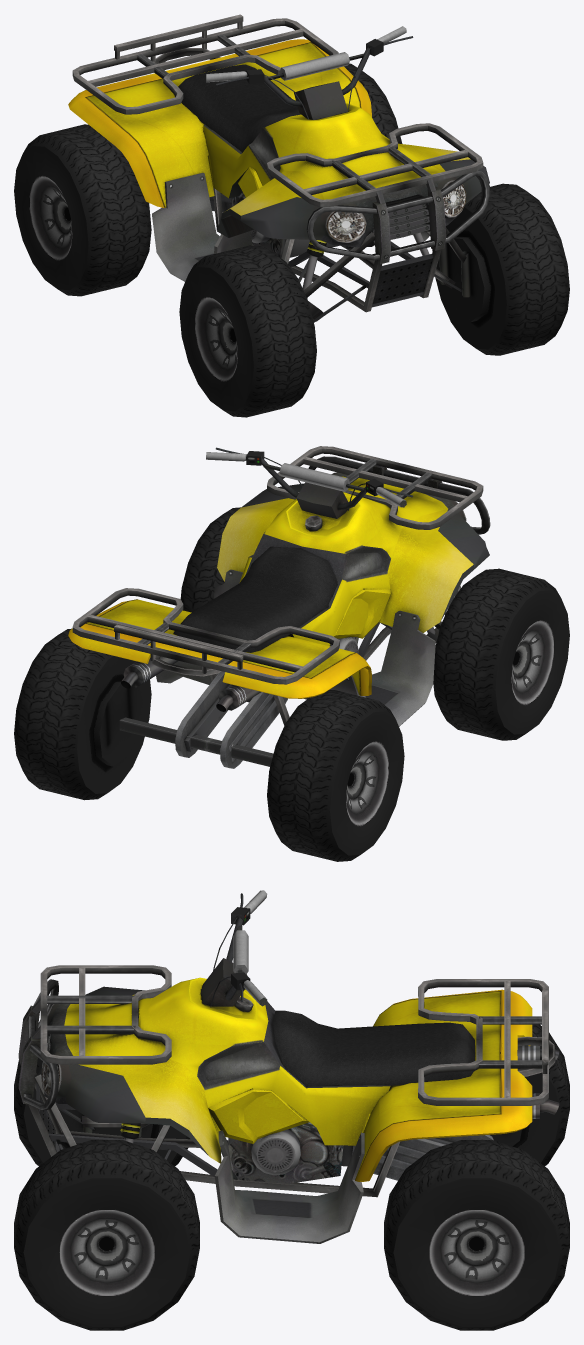
File: bike_5.fbx
3 views of the same model, one above another, from view 1: azimuth 30°, elevation 25°; view 2: azimuth 150°, elevation 25°; view 3: azimuth 270°, elevation 25° (orthographic). The views are drawn at different scales.
Visible parts, largest first — view 1: boby, t_r, t_r1, t_l, handle, t_l1; view 2: boby, t_r, t_r1, t_l1, handle, t_l; view 3: boby, t_l1, t_l, t_r1, handle, t_r.
Part boxes in pixels (x1=…): boby: x1=68, y1=14, x2=490, y2=322; t_r: x1=179, y1=245, x2=316, y2=417; t_r1: x1=14, y1=124, x2=151, y2=296; t_l: x1=432, y1=183, x2=569, y2=355; handle: x1=206, y1=26, x2=413, y2=119; t_l1: x1=344, y1=63, x2=402, y2=143; boby: x1=68, y1=446, x2=490, y2=768; t_r: x1=433, y1=568, x2=569, y2=740; t_r1: x1=267, y1=690, x2=404, y2=861; t_l1: x1=14, y1=628, x2=151, y2=800; handle: x1=206, y1=447, x2=412, y2=518; t_l: x1=180, y1=507, x2=240, y2=612; boby: x1=18, y1=965, x2=559, y2=1243; t_l1: x1=384, y1=1140, x2=569, y2=1330; t_l: x1=14, y1=1140, x2=199, y2=1330; t_r1: x1=490, y1=1024, x2=569, y2=1165; handle: x1=200, y1=890, x2=267, y2=1007; t_r: x1=14, y1=1038, x2=190, y2=1165.
Size of the model in its own units: 156 by 128 by 211.
